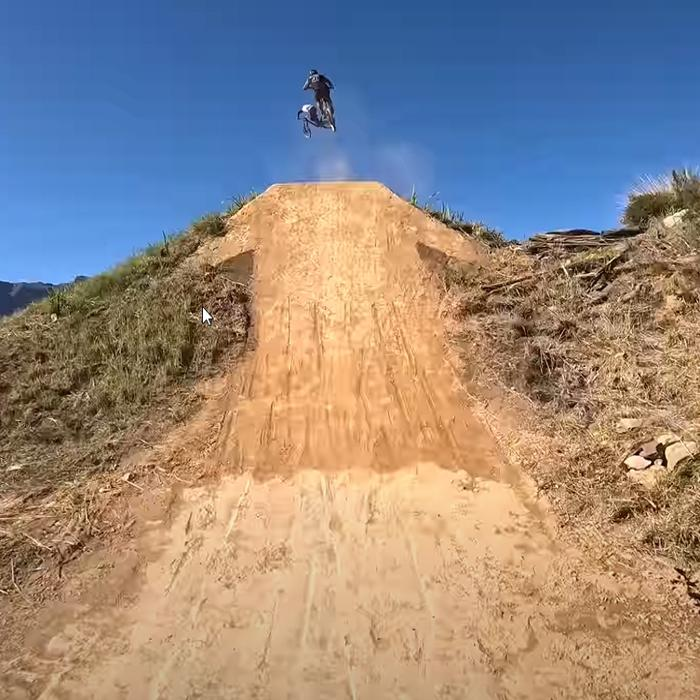turn: (222, 160, 424, 299)
